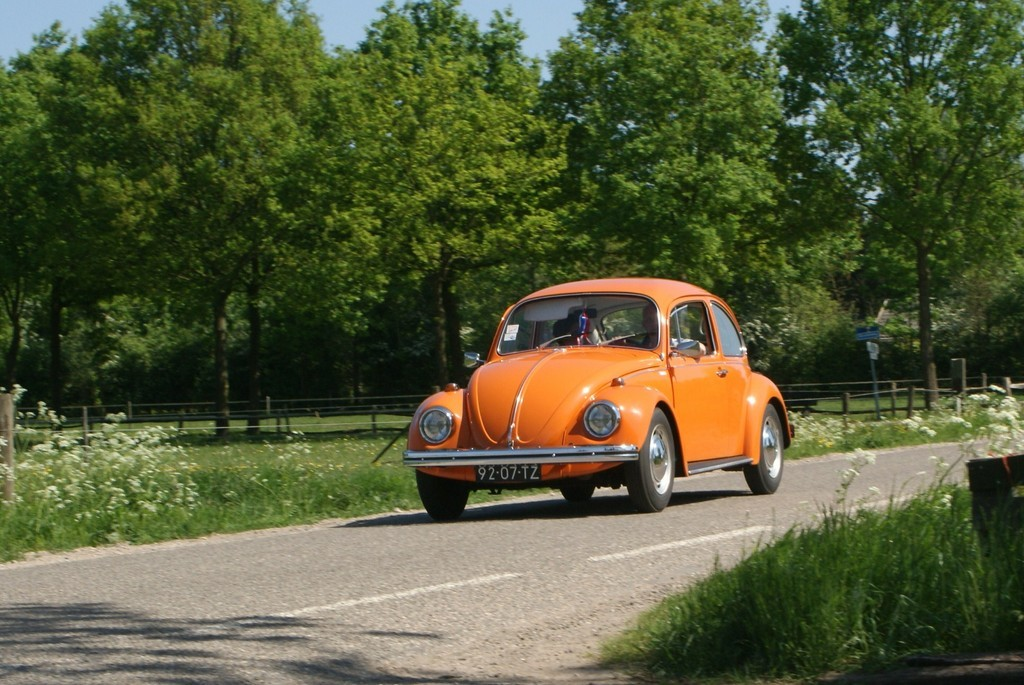Car: (394, 272, 798, 530)
